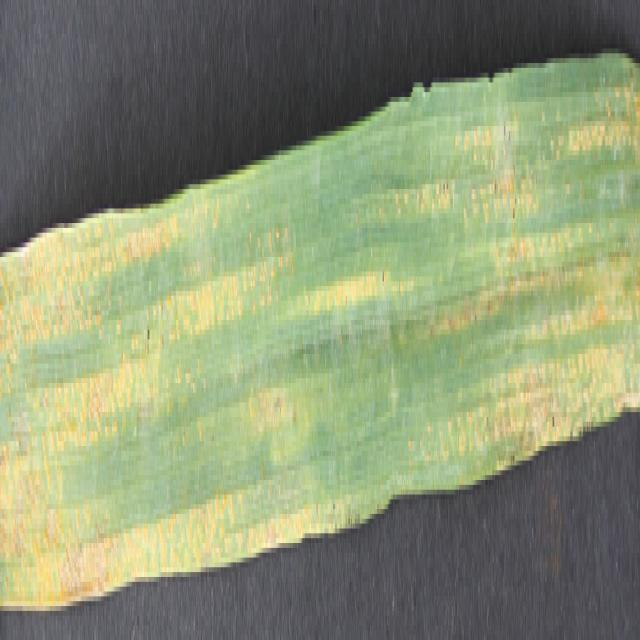leaf rust: (0, 29, 639, 640)
